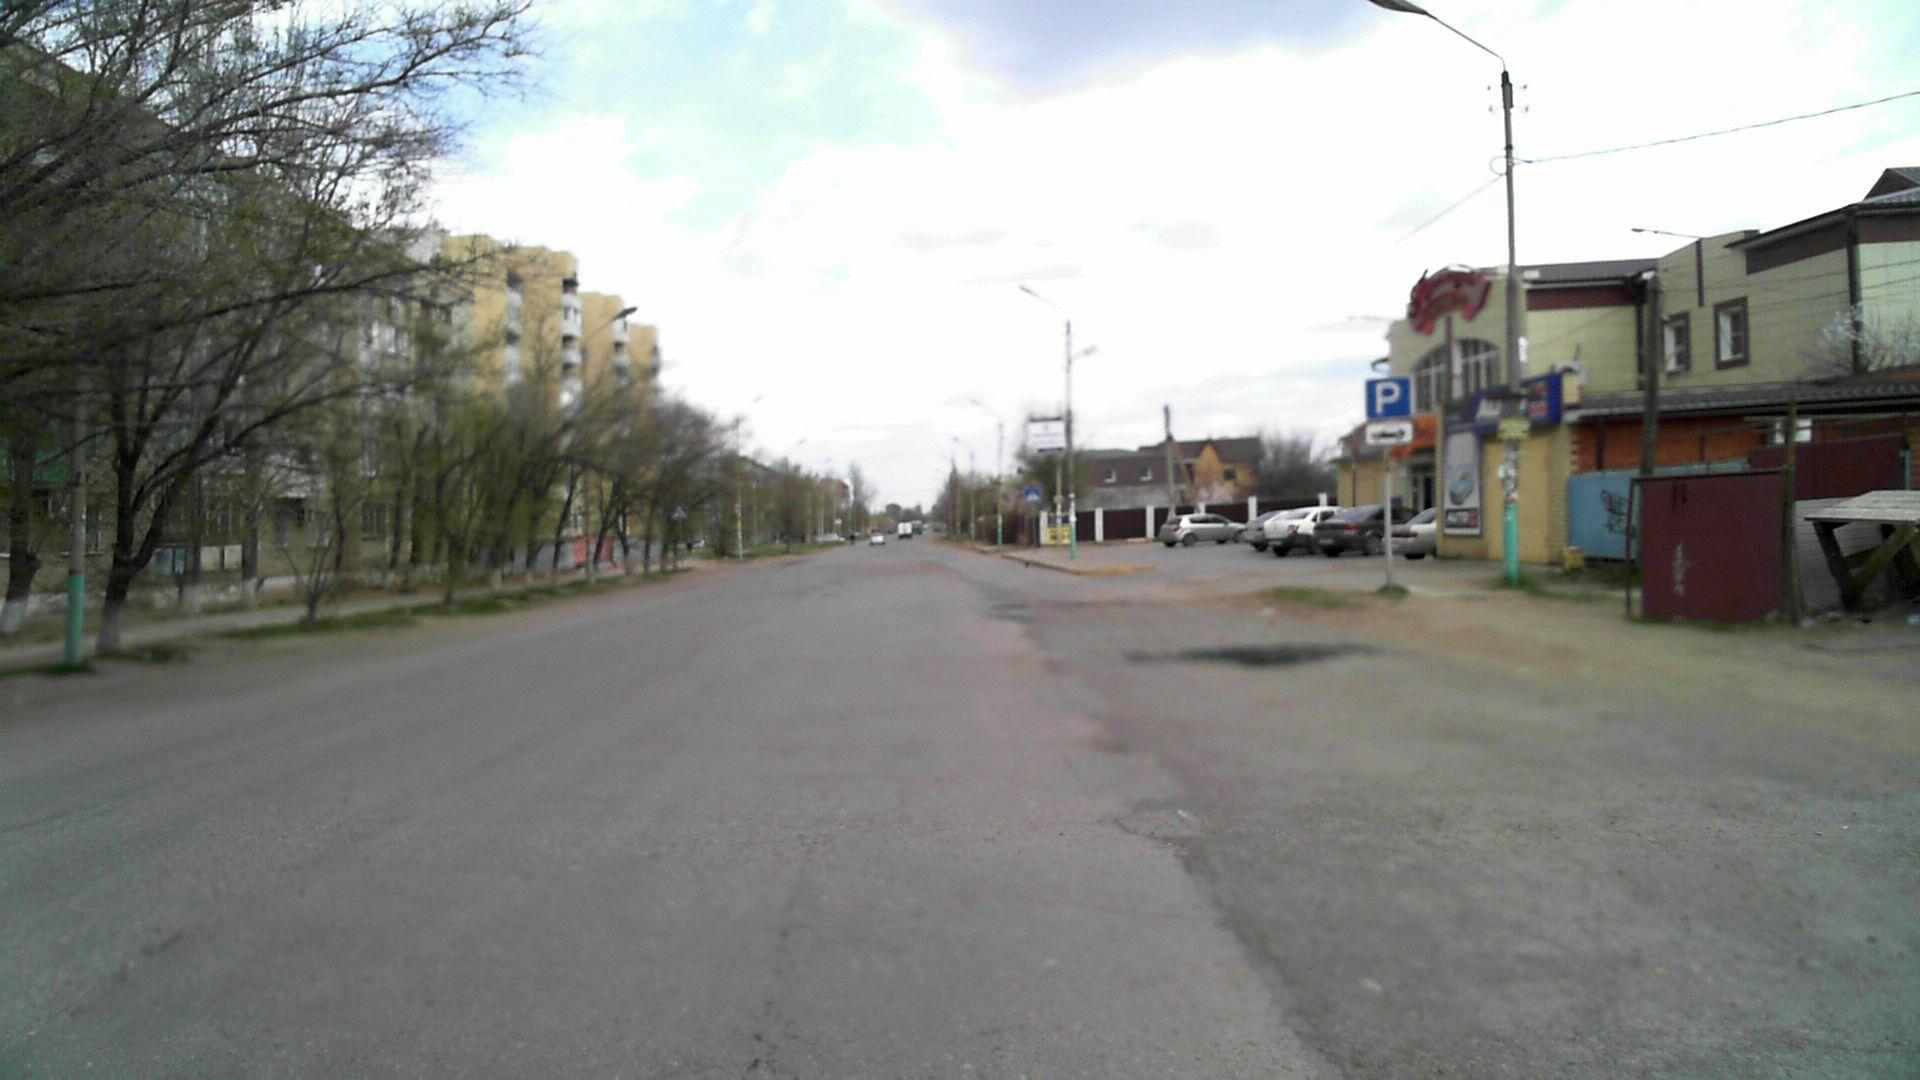5_19_1: (1025, 488, 1042, 505)
5_19_2: (673, 505, 687, 520)
6_4: (1366, 376, 1412, 419)
8_4_3_2: (1365, 422, 1414, 444)
